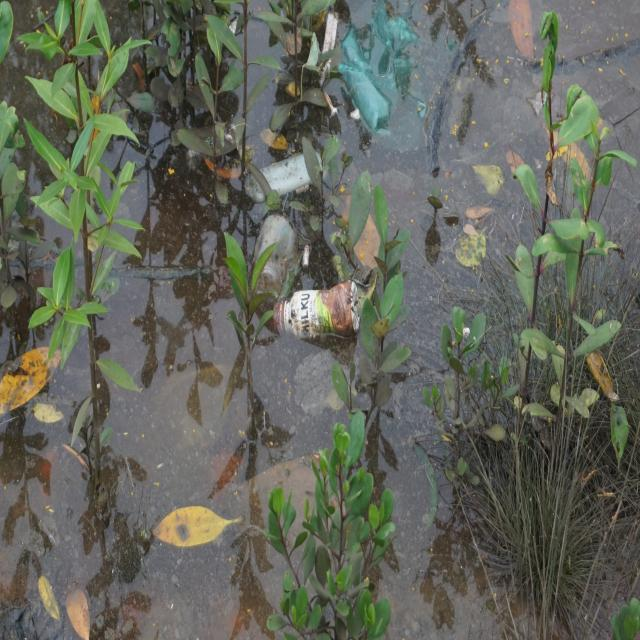Botol Plastik: (274, 277, 362, 351)
Bungkus Minuman: (247, 207, 303, 306)
Kantong Plastik: (336, 1, 420, 137)
